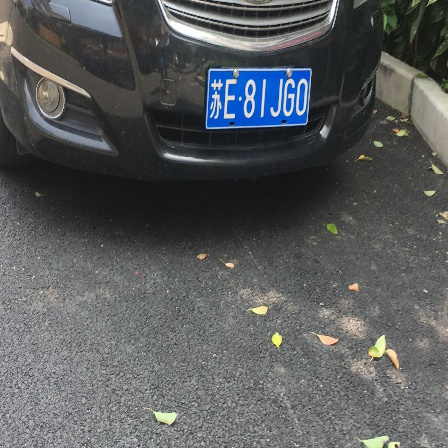plate: (206, 63, 311, 129)
